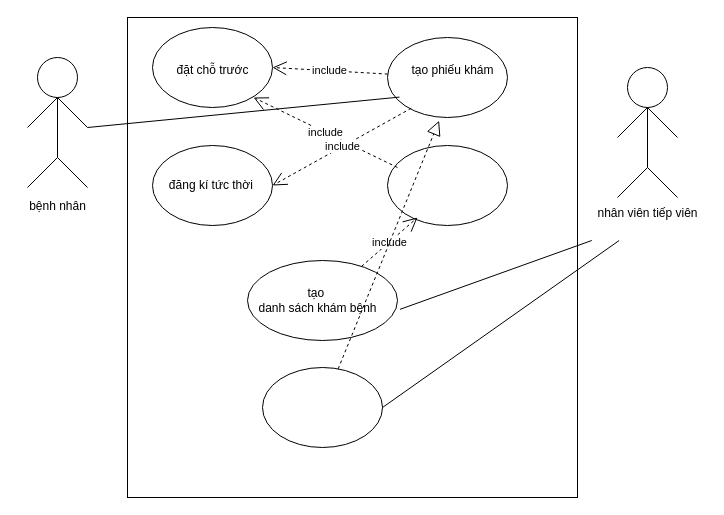
This 724x515 diagram has some shape labels left out. The shapes that lost their labels are listed below. From the top down, each one's centre as x and y in pixels, then its label:
the point at 447,185: tạo phiếu đăng ký trước
the point at 322,407: tạo danh sách ngày hôm sau
